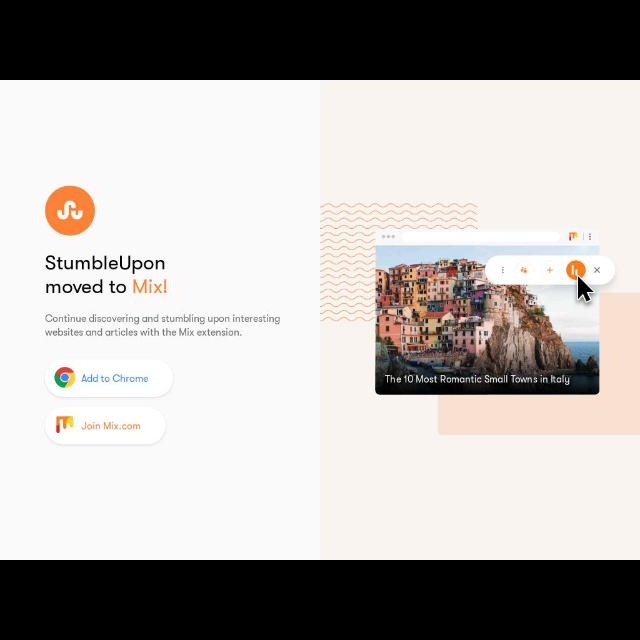backgroundimage: (1, 81, 637, 558)
image: (42, 186, 96, 234)
text: (47, 310, 283, 338), (49, 256, 170, 296)
textbutton: (49, 362, 171, 398), (47, 406, 163, 442)
